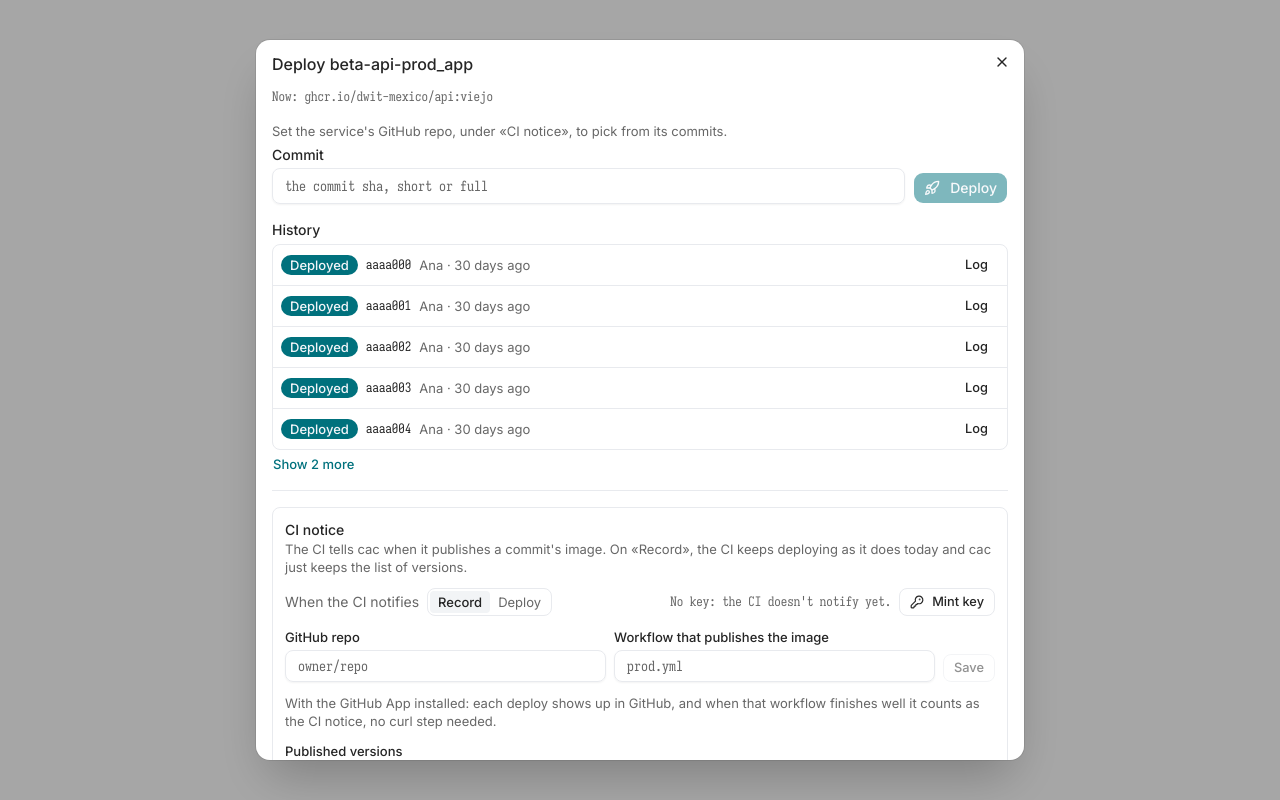
Test: el historial y su log › el log se abre en el sitio del historial, con un atrás, y sólo si se pide
Expected: the list named "History" is shown, 272,244 -> 1008,450
Step 1. Click the button "Log" in the row of "aaaa002" → (977, 347), box 954,333 -> 999,361
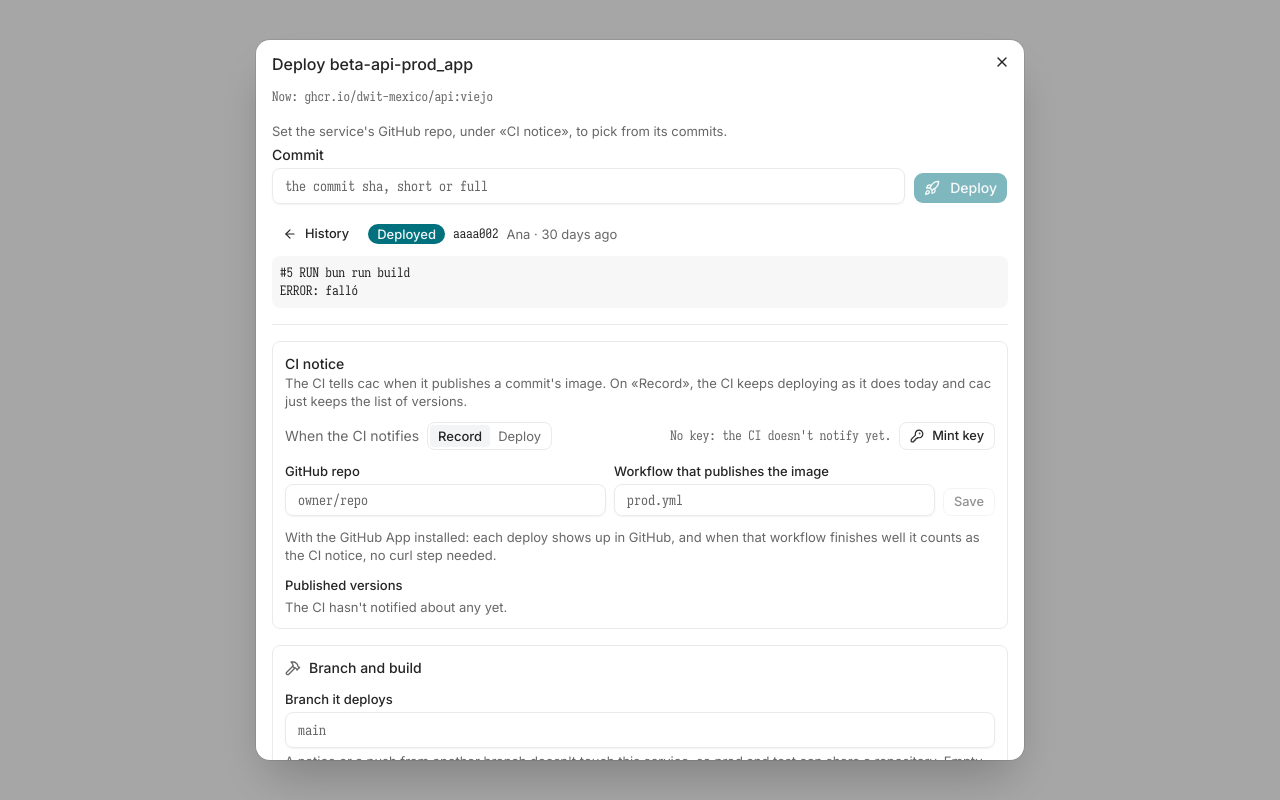
Result: the text named "log" shows "ERROR: falló" at 280,264 -> 410,299
Step 2. Click the button "History" → (316, 234), box 272,220 -> 360,248
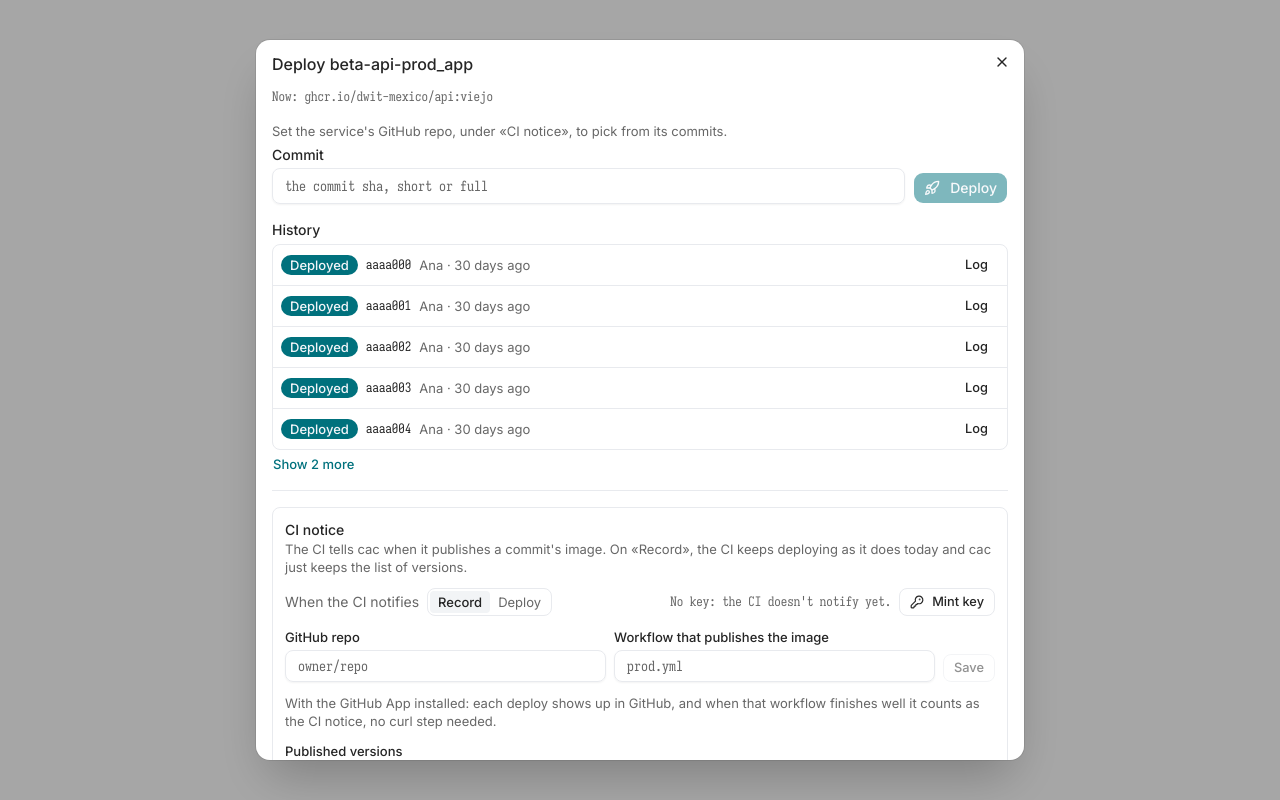
Result: the list named "History" is shown at 272,244 -> 1008,450
